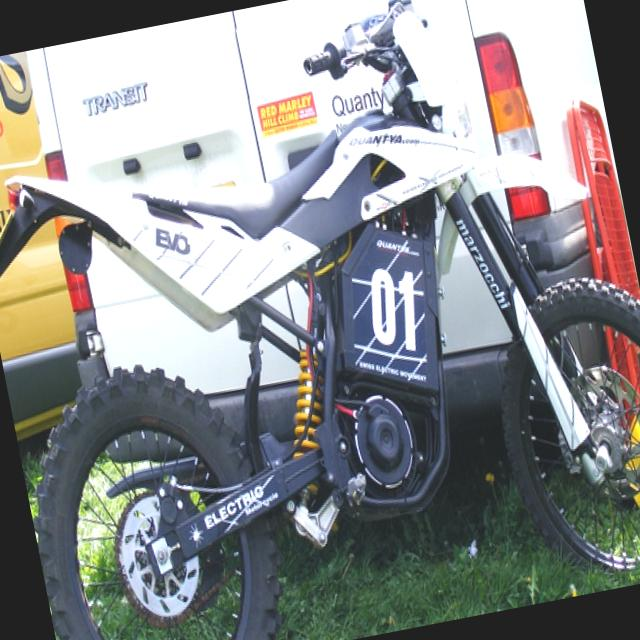Vehicle: (0, 0, 640, 640), (13, 0, 640, 492), (15, 0, 640, 480), (0, 50, 105, 453)
